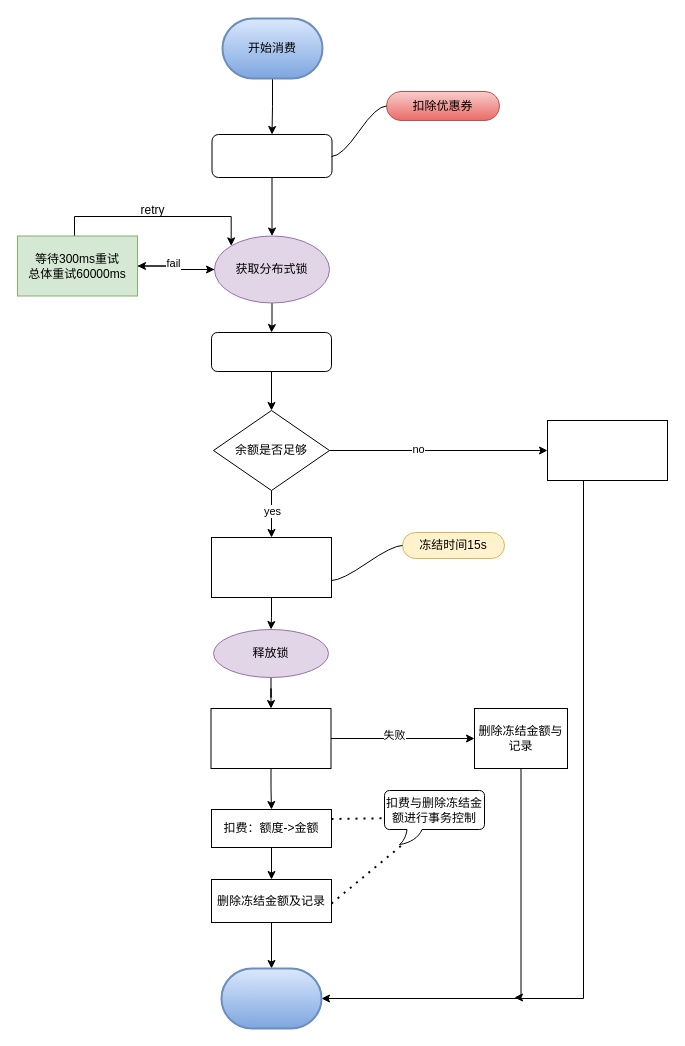
This 685x1046 diagram has some shape labels left out. Here are the shapes that lost their labels. From the top down, the centre of each, then its label:
pixel 271 156: 消费金额计算
pixel 271 352: 余额获取
pixel 607 450: 拒绝添加
pixel 271 567: 金额冻结
pixel 270 738: 处理业务逻辑 有必要可修正冻结金额
pixel 271 998: 结束
